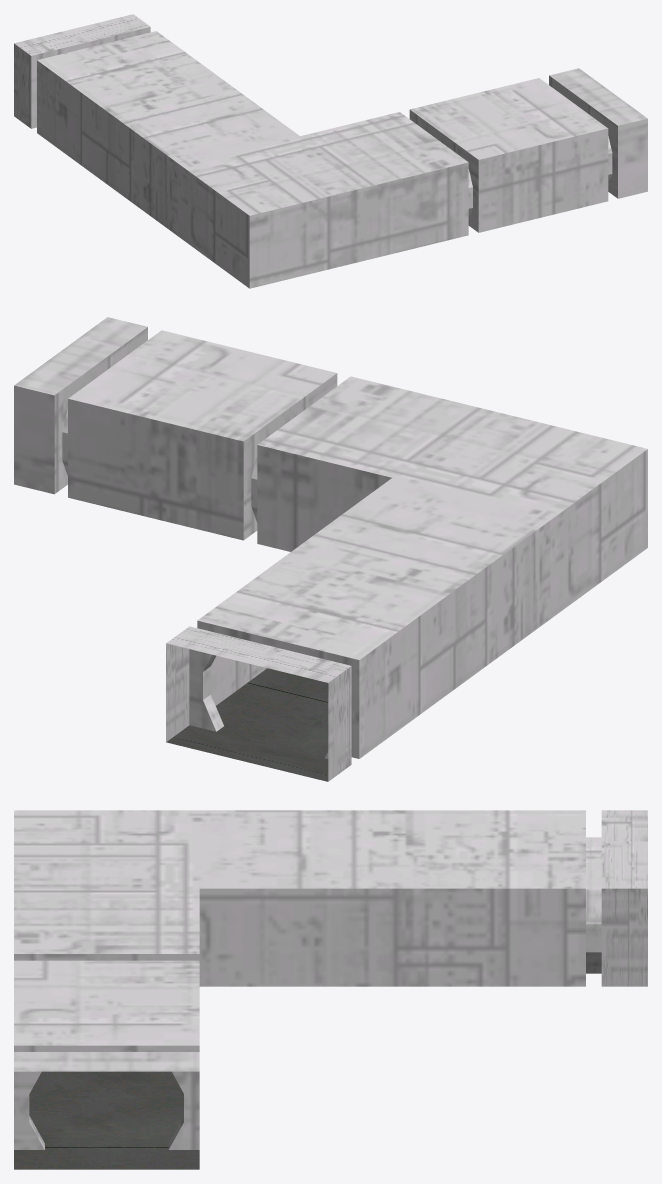
The model's file is thm_spc_star_destroyer_s01_r35_hallway13_mesh_r35.fbx.
The picture shows the model from 3 angles, top to bottom: view 1: azimuth 30°, elevation 25°; view 2: azimuth 150°, elevation 25°; view 3: azimuth 270°, elevation 25°; orthographic projection. The views are drawn at different scales.
Parts seen in each view (by area): view 1: mesh_node; view 2: mesh_node; view 3: mesh_node.
Part boxes in pixels (left/top/right/bottom): mesh_node: left=14, top=14, right=647, bottom=288; mesh_node: left=14, top=317, right=647, bottom=781; mesh_node: left=14, top=810, right=647, bottom=1169.
Bounding box in the file's own units: 20 × 3.5 × 20.5.
Materials: 2 (2 with a texture image).
